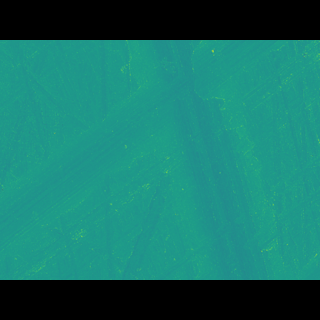Loch: (0, 69, 285, 230), (149, 155, 320, 250)
